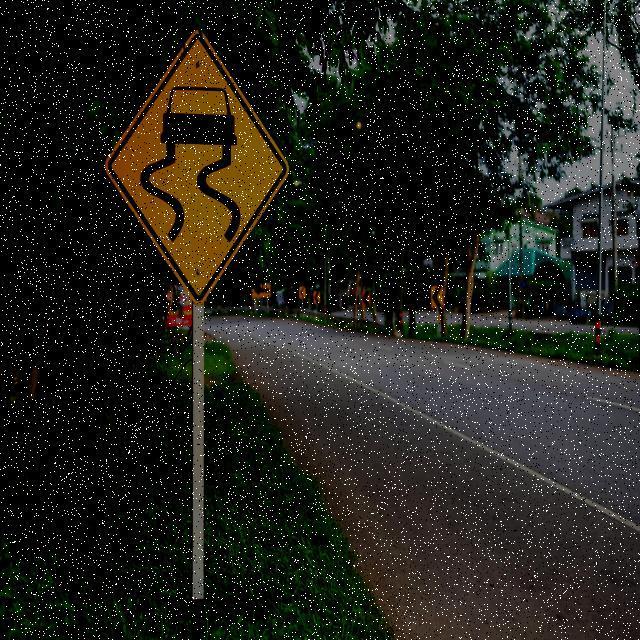Traffic sign: (101, 25, 298, 308)
